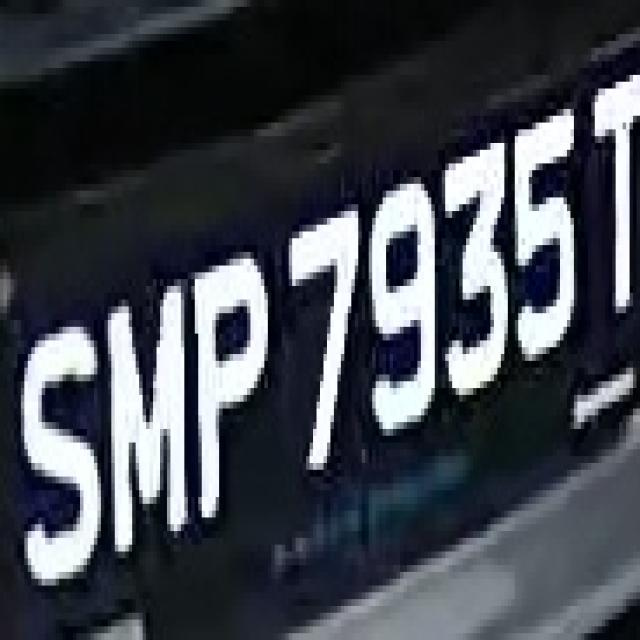3: (435, 115, 511, 408)
5: (501, 82, 584, 381)
7: (278, 191, 369, 490)
9: (354, 150, 448, 436)
M: (101, 273, 191, 552)
P: (188, 245, 271, 552)
S: (14, 286, 108, 606)
